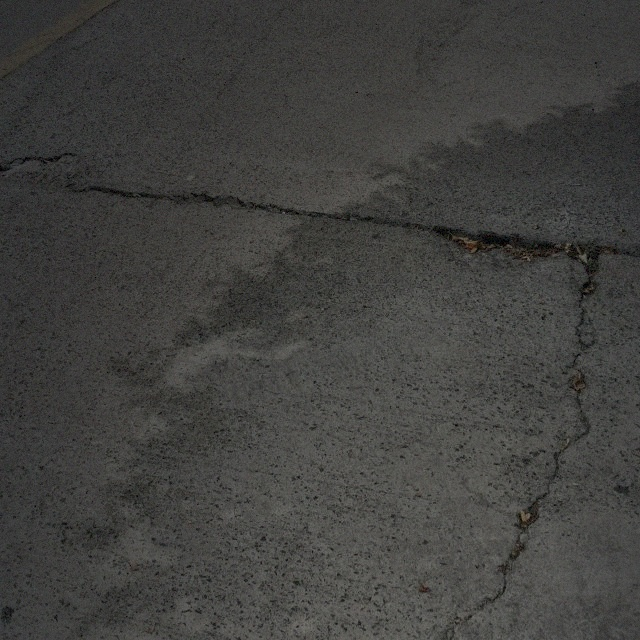pothole: (7, 146, 86, 198)
